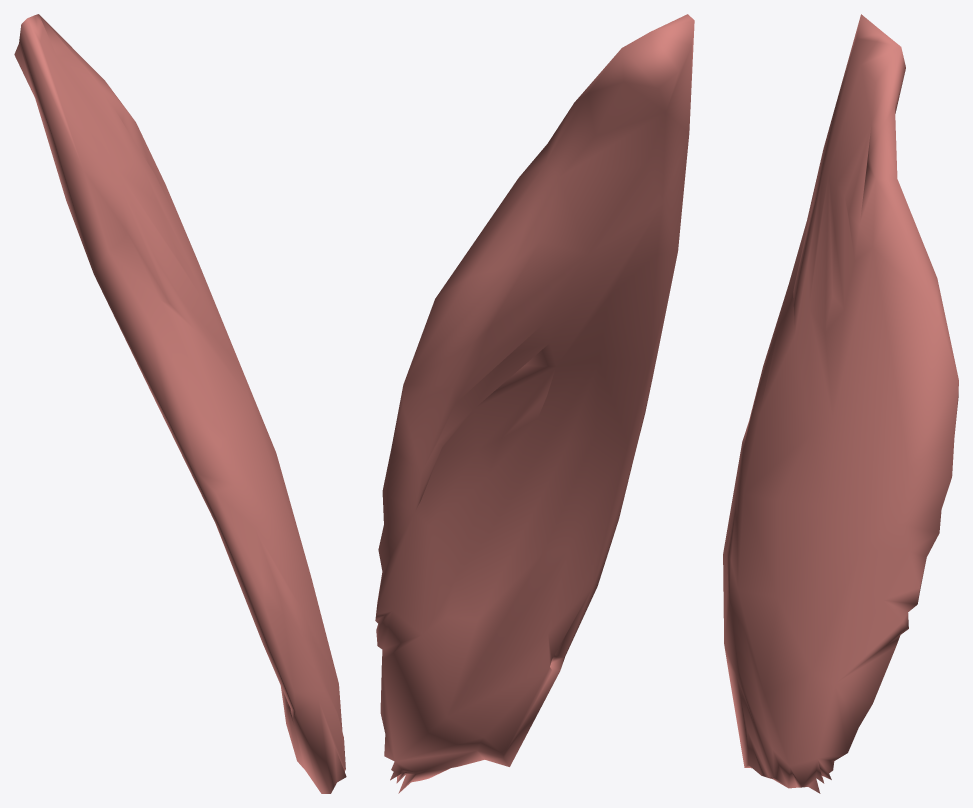
3 renders of one model, left to right at view 1: azimuth 30°, elevation 25°; view 2: azimuth 150°, elevation 25°; view 3: azimuth 270°, elevation 25°, orthographic. The views are drawn at different scales.
Visible parts, largest first — view 1: ZA_9359974e0be03cd0; view 2: ZA_9359974e0be03cd0; view 3: ZA_9359974e0be03cd0.
Part boxes in pixels (left/top/right/bottom): ZA_9359974e0be03cd0: left=14, top=14, right=346, bottom=793; ZA_9359974e0be03cd0: left=375, top=14, right=694, bottom=793; ZA_9359974e0be03cd0: left=723, top=14, right=958, bottom=793.
Size of the model in its own units: 0.0184 by 0.0477 by 0.0154.
